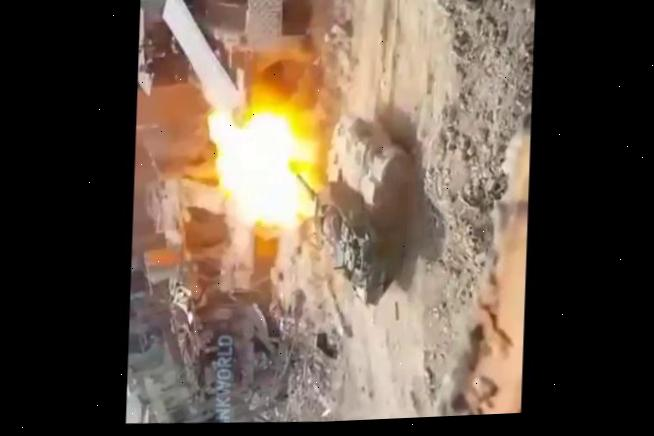tank: (288, 109, 415, 310)
